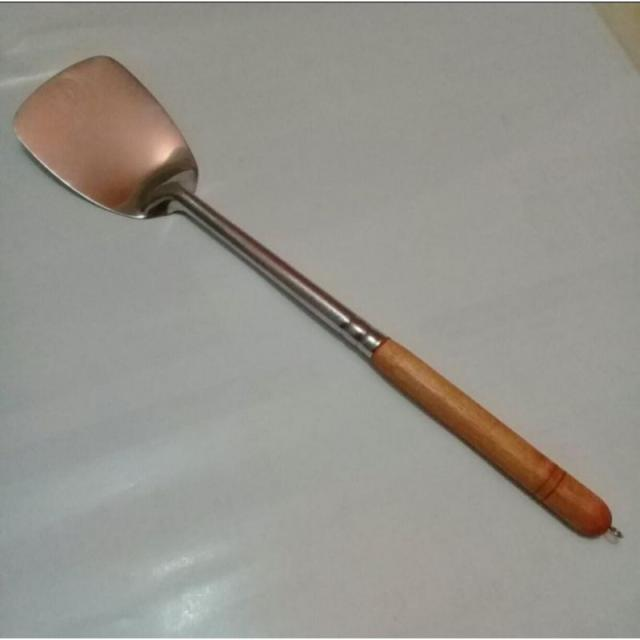Spatula: (8, 36, 637, 558)
